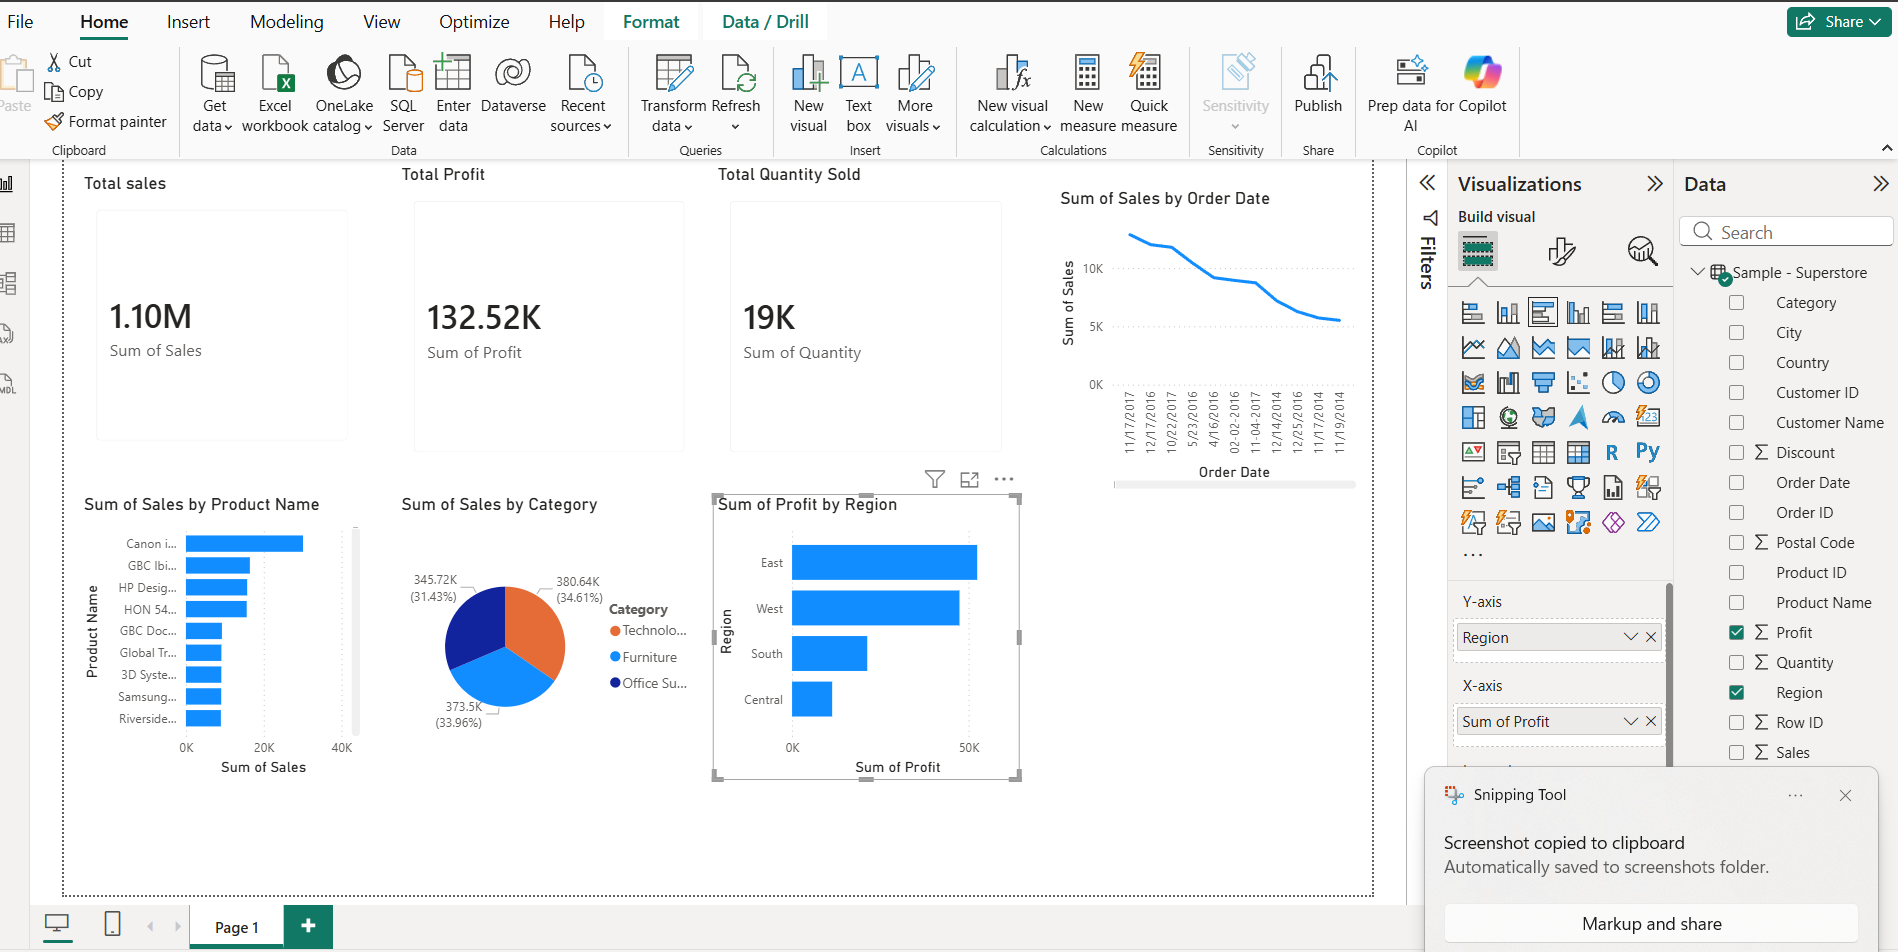

The dashboard page shown, as its layout file describes it:
{"tool":"powerbi","page":{"name":"Page 1","canvas":[1280,720],"ordinal":0},"visuals":[{"type":"cardVisual","title":"Total sales","fields":{"Data":["Sum(Sample - Superstore.Sales)"]},"box":[14.7,13.5,280,280],"z":0},{"type":"cardVisual","title":"Total Profit","fields":{"Data":["Sum(Sample - Superstore.Profit)"]},"box":[325.3,4.9,299.6,299.6],"z":1},{"type":"cardVisual","title":"Total Quantity Sold","fields":{"Data":["Sum(Sample - Superstore.Quantity)"]},"box":[635,5,300,300],"z":2},{"type":"lineChart","fields":{"Category":["Sample - Superstore.Order Date"],"Y":["Sum(Sample - Superstore.Sales)"]},"box":[969.7,28.1,299.6,299.6],"z":3},{"type":"clusteredBarChart","fields":{"Category":["Sample - Superstore.Product Name"],"Y":["Sum(Sample - Superstore.Sales)"]},"box":[15,328,280,280],"z":4},{"type":"pieChart","fields":{"Category":["Sample - Superstore.Category"],"Y":["Sum(Sample - Superstore.Sales)"]},"box":[325,328,300,280],"z":5},{"type":"clusteredBarChart","fields":{"Category":["Sample - Superstore.Region"],"Y":["Sum(Sample - Superstore.Profit)"]},"box":[635,328,300,280],"z":6}]}

Visuals, with their boxes on the page's 1280x720 design canvas (x1, y1, x2, y2). These are canvas units, not pixel positions in the 1898x952 screenshot, which may show the page scaled, cropped or inside an application window:
"Total sales" cardVisual: box=[15, 14, 295, 294]
"Total Profit" cardVisual: box=[325, 5, 625, 304]
"Total Quantity Sold" cardVisual: box=[635, 5, 935, 305]
lineChart - Sample - Superstore.Order Date x Sum(Sample - Superstore.Sales): box=[970, 28, 1269, 328]
clusteredBarChart - Sample - Superstore.Product Name x Sum(Sample - Superstore.Sales): box=[15, 328, 295, 608]
pieChart - Sample - Superstore.Category x Sum(Sample - Superstore.Sales): box=[325, 328, 625, 608]
clusteredBarChart - Sample - Superstore.Region x Sum(Sample - Superstore.Profit): box=[635, 328, 935, 608]
